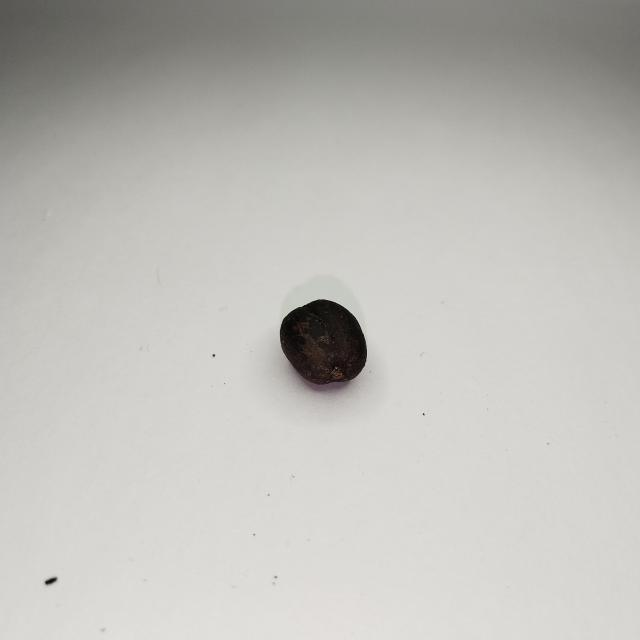Danado: (282, 301, 364, 384)
